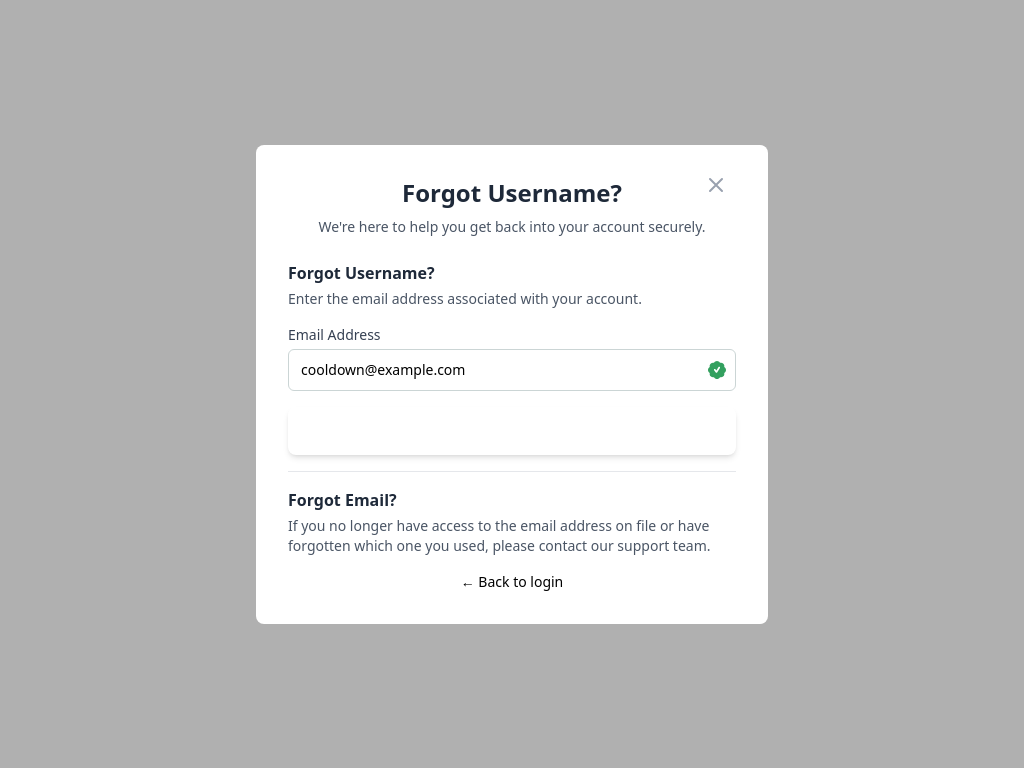
Scenario: ForgotUsernameForm — cooldown countdown › should decrement cooldown timer after successful submit
Click the button "Receive Verification Link" at (512, 430), box x1=288 y1=406 x2=736 y2=454
Wait 2000 ms
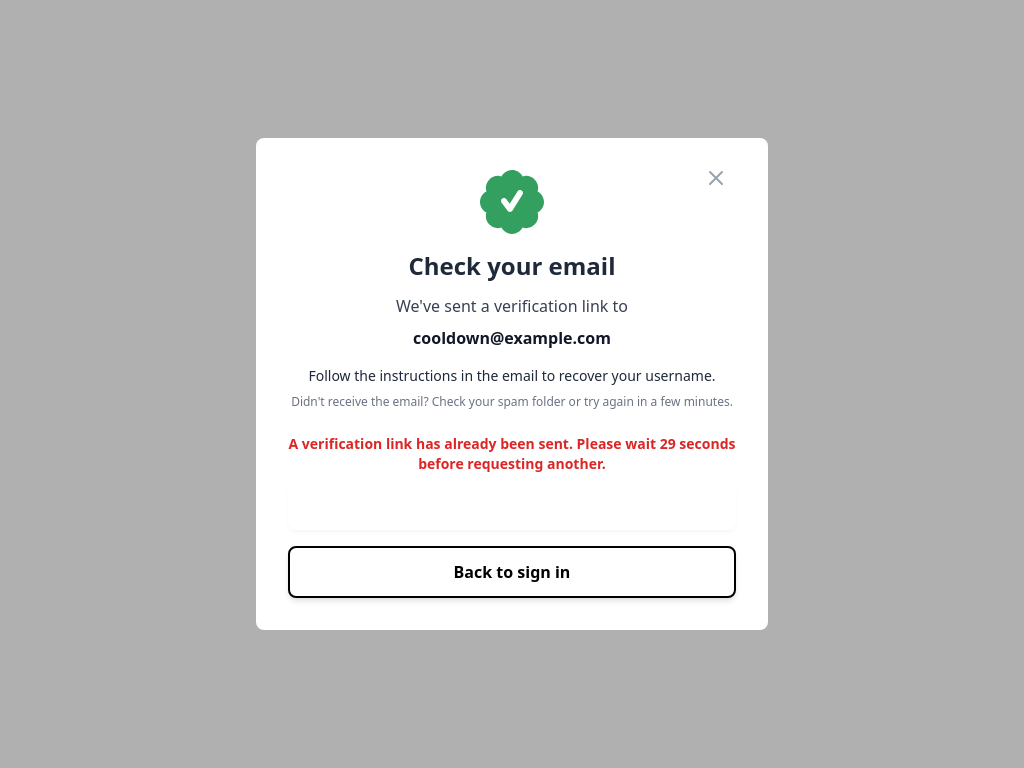
Result: the heading "Check your email" is shown at x1=408 y1=249 x2=616 y2=282
